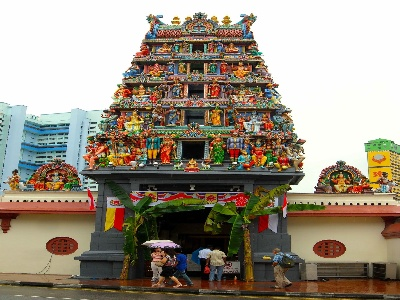gopura: (90, 12, 312, 175)
